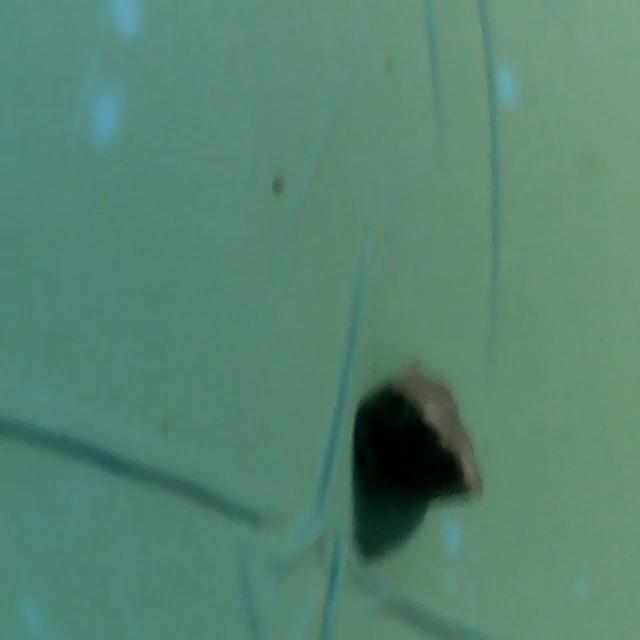rock: (343, 350, 491, 511)
